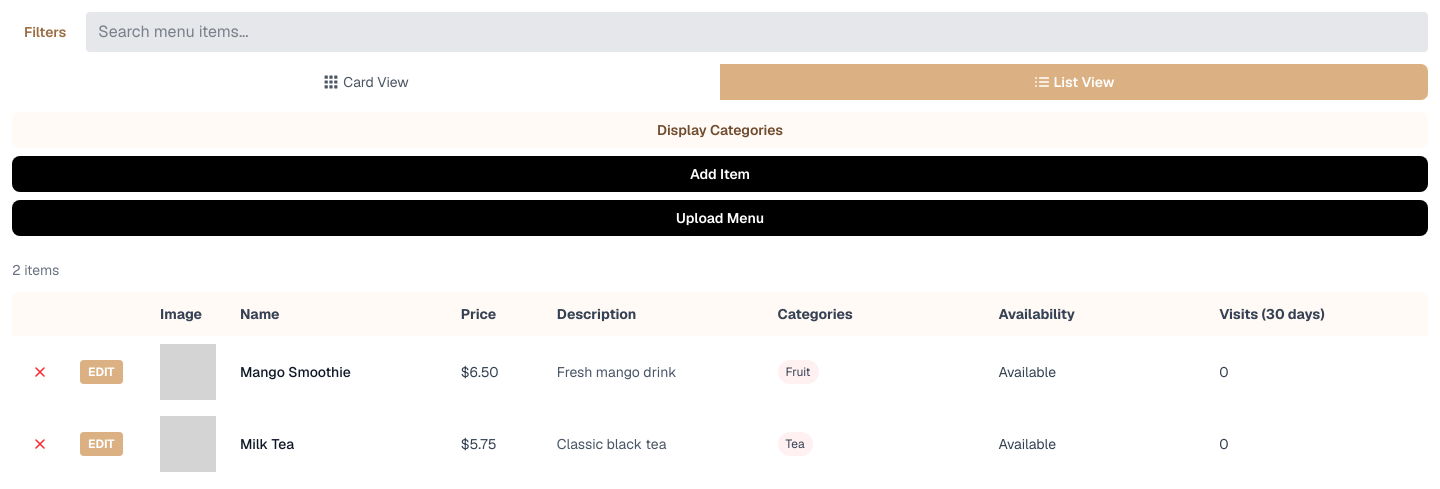
Test: Admin Menu UI integration › Display, search, sorting, and permissions › searches menu item names and descriptions
Type "mango" into the search field labelled "Search menu items" at (757, 32), box [86, 12, 1428, 52]
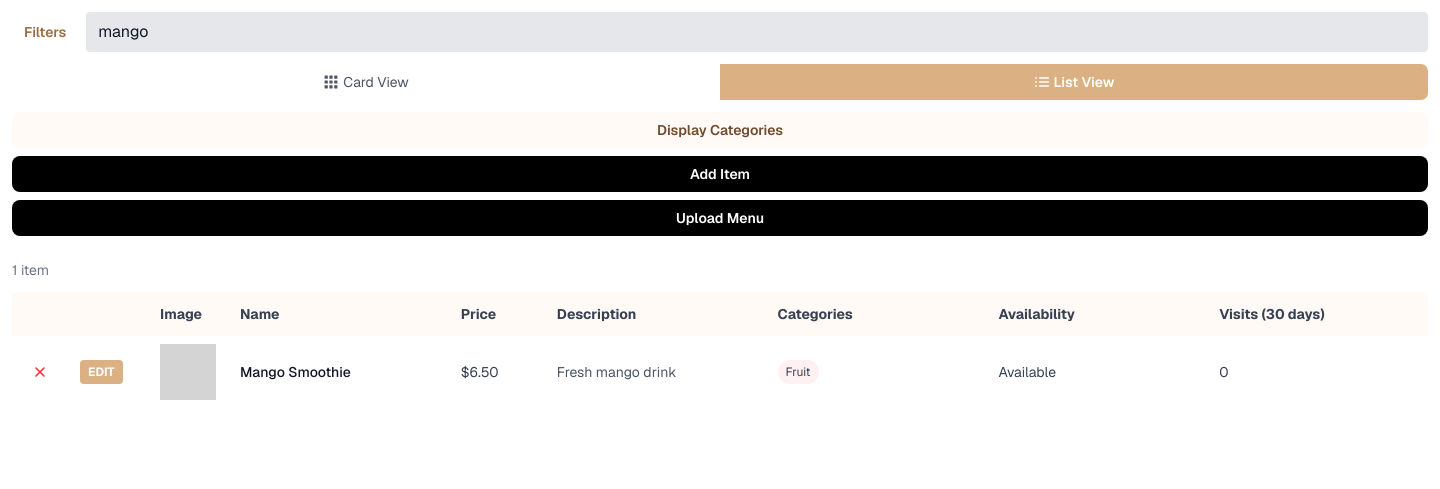
Expected: the row "Mango Smoothie" is shown, [12, 336, 1428, 408]
Result: the text "1 item" is shown at [12, 260, 49, 280]
Result: the cell "Milk Tea" is gone
Replace the text in the search field named "Search menu items" with "classic black" at (757, 32), box [86, 12, 1428, 52]
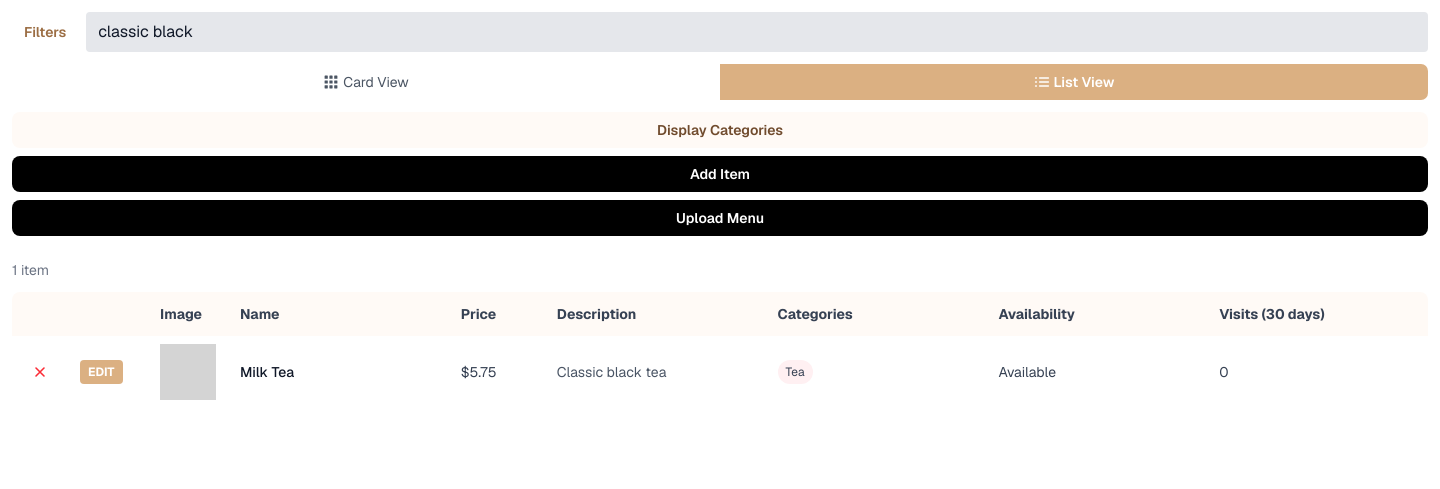
Result: the row "EDIT Milk Tea $5.75 Classic black tea Tea Available 0" is shown at [12, 336, 1428, 408]
Clear the search field named "Search menu items" at (757, 32), box [86, 12, 1428, 52]
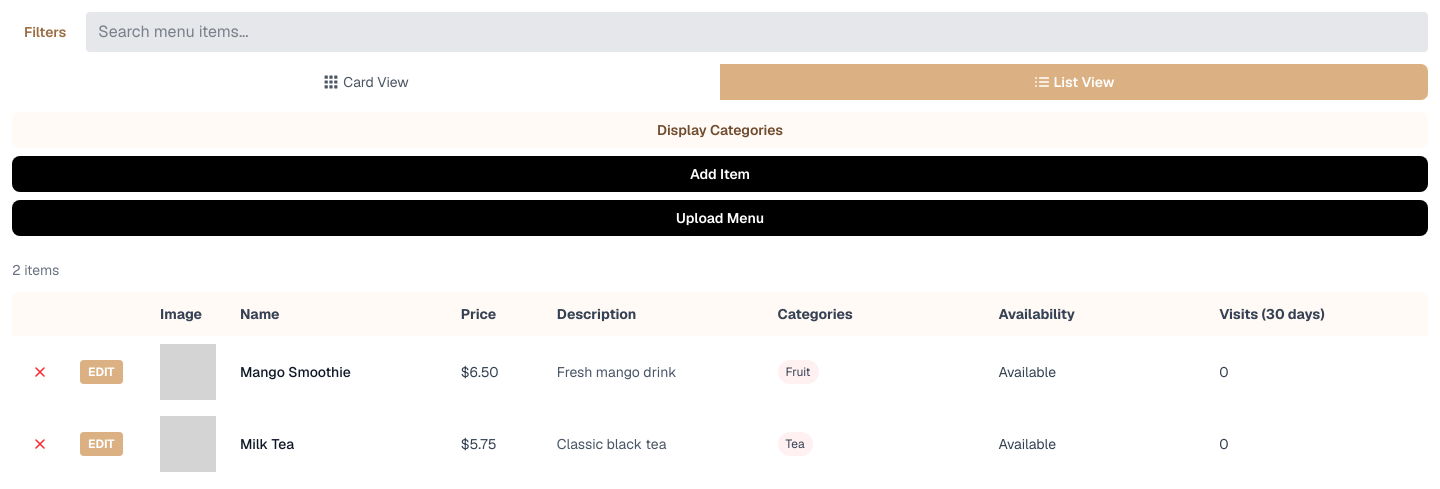
Result: the text "2 items" is shown at [12, 260, 59, 280]
